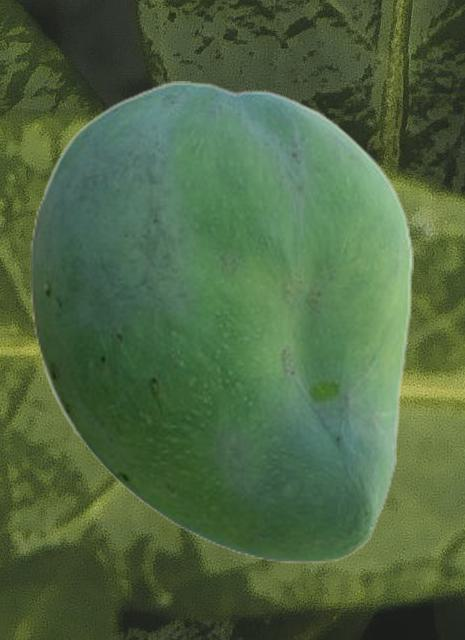green_mango: (29, 81, 412, 563)
